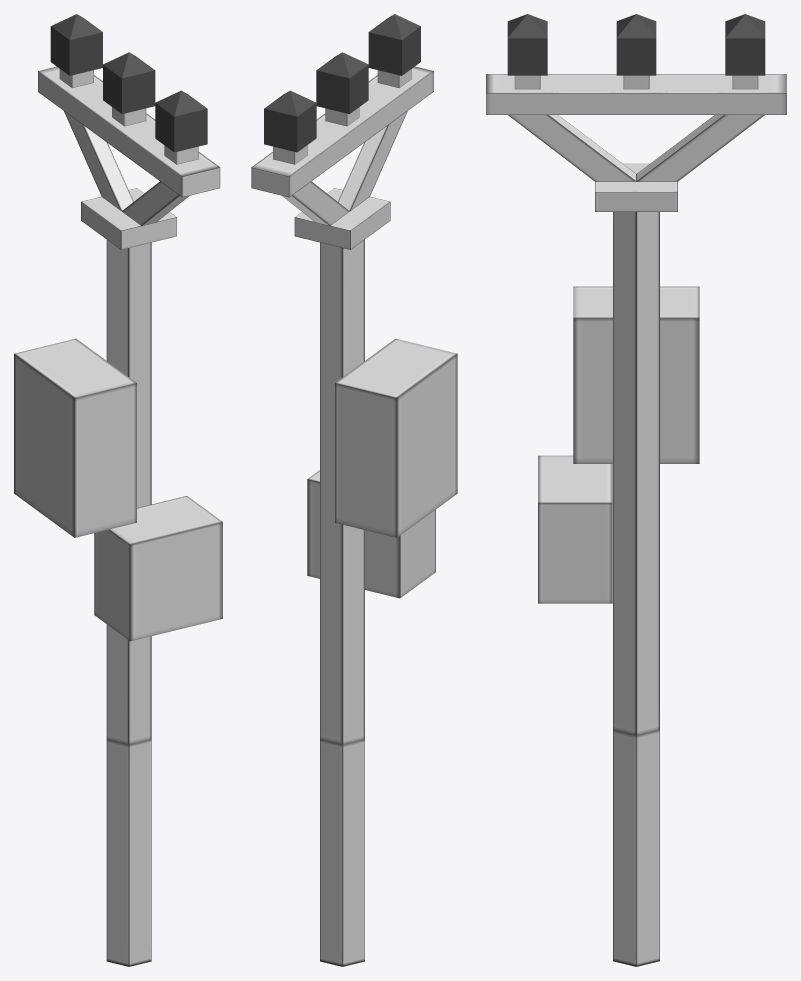
The model's file is Utility-Pole-01.fbx.
The picture shows the model from 3 angles, left to right: view 1: azimuth 30°, elevation 25°; view 2: azimuth 150°, elevation 25°; view 3: azimuth 270°, elevation 25°; orthographic projection. The views are drawn at different scales.
Visible parts, largest first — view 1: Utility_Pole_01; view 2: Utility_Pole_01; view 3: Utility_Pole_01.
Boxes of the visible parts, bbox=[...] form: Utility_Pole_01: bbox=[14, 14, 222, 966]; Utility_Pole_01: bbox=[251, 14, 457, 966]; Utility_Pole_01: bbox=[486, 14, 786, 966].
Bounding box in the file's own units: 0.3993 × 2.63 × 0.7603.
